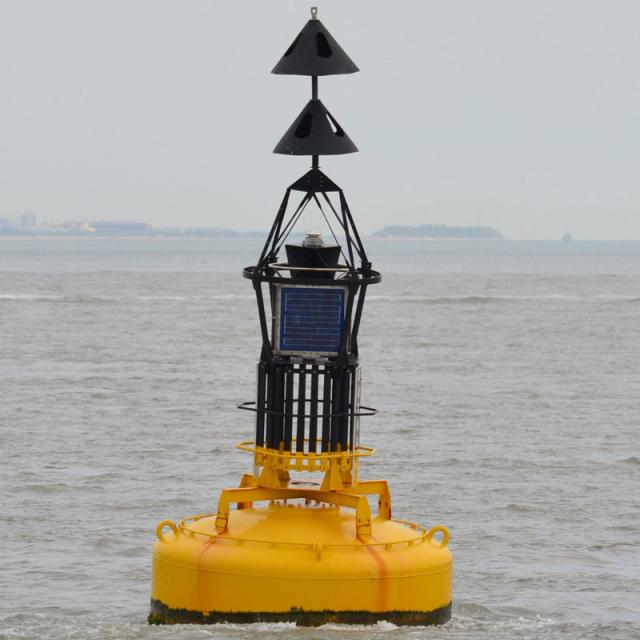marque: (142, 5, 459, 634)
